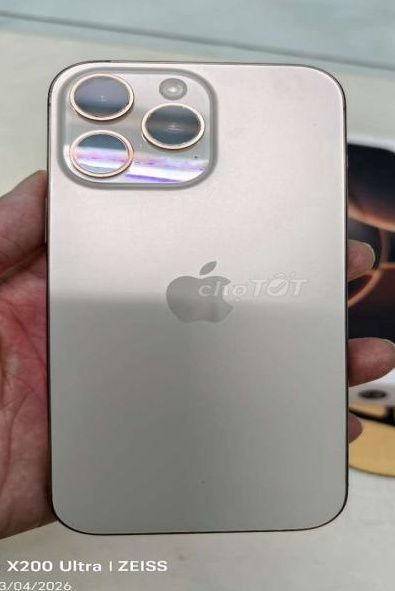scratch: (128, 139, 159, 161)
